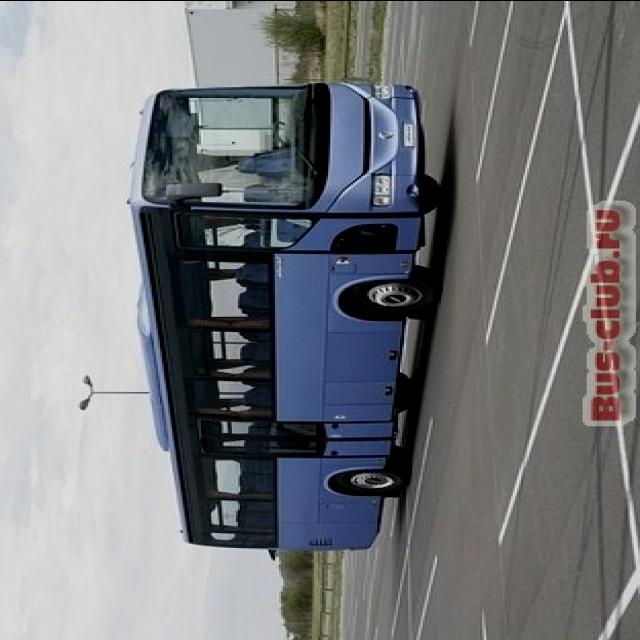bus: (118, 76, 458, 556)
